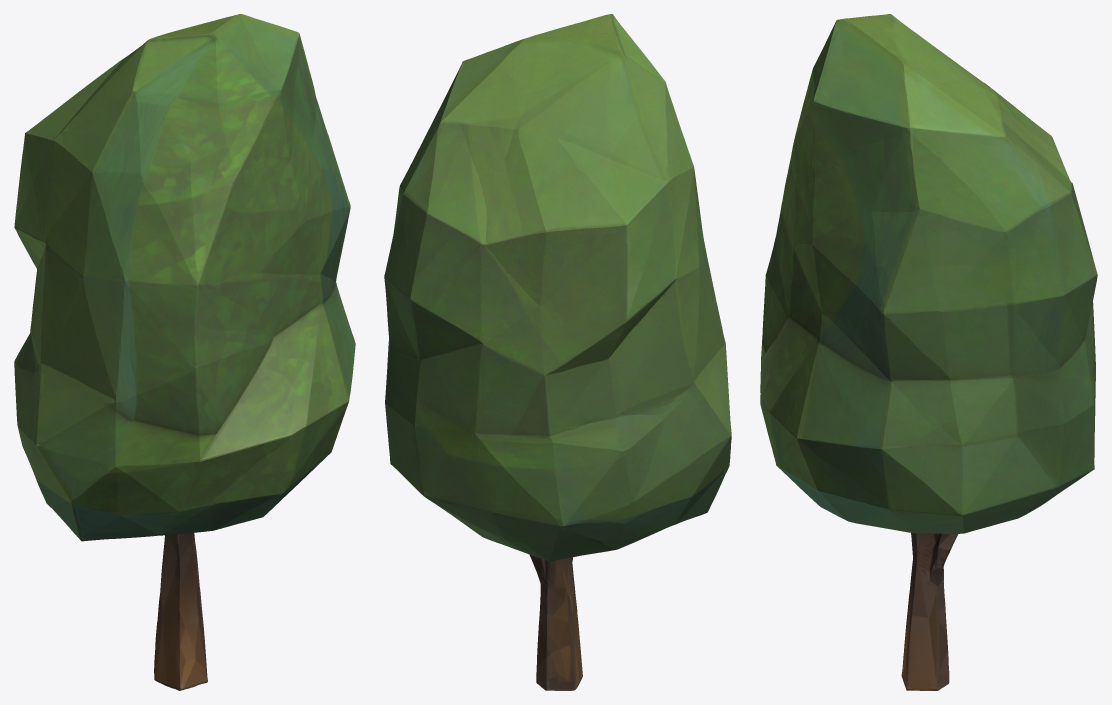
Rendered from Polygonal_Tree_0505183923_texture.fbx.
The picture shows the model from 3 angles, left to right: view 1: azimuth 30°, elevation 25°; view 2: azimuth 150°, elevation 25°; view 3: azimuth 270°, elevation 25°; orthographic projection. The views are drawn at different scales.
Visible parts, largest first — view 1: temp; view 2: temp; view 3: temp.
Boxes of the visible parts, bbox=[...] form: temp: bbox=[14, 14, 355, 690]; temp: bbox=[384, 14, 731, 690]; temp: bbox=[760, 14, 1097, 690].
Bounding box in the file's own units: 99.95 × 200 × 92.89.
1 material, 1 textured.
